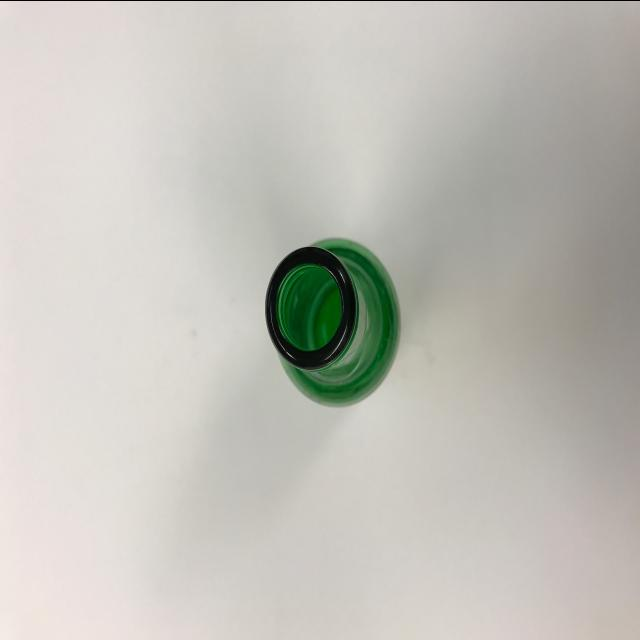glass: (260, 229, 408, 409)
